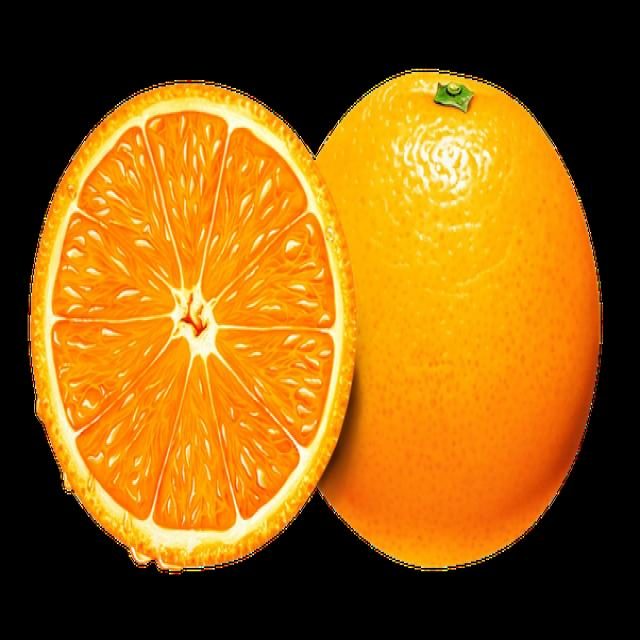orange: (33, 80, 353, 582), (311, 74, 604, 570)
